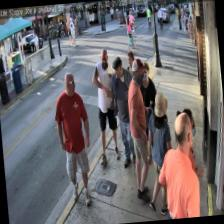person: (50, 71, 96, 206), (153, 111, 202, 220), (122, 58, 157, 202), (140, 92, 178, 216), (90, 48, 123, 166), (106, 55, 140, 168), (173, 108, 206, 208), (134, 62, 162, 162), (122, 50, 142, 143)
